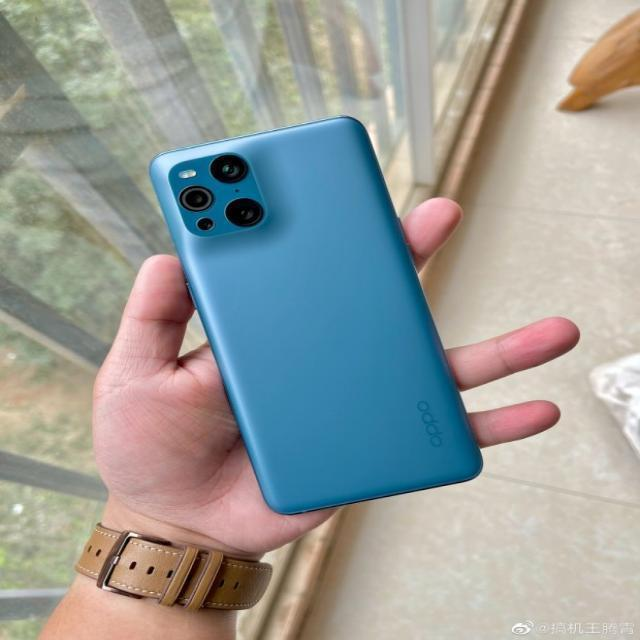Mobile: (147, 110, 488, 520)
